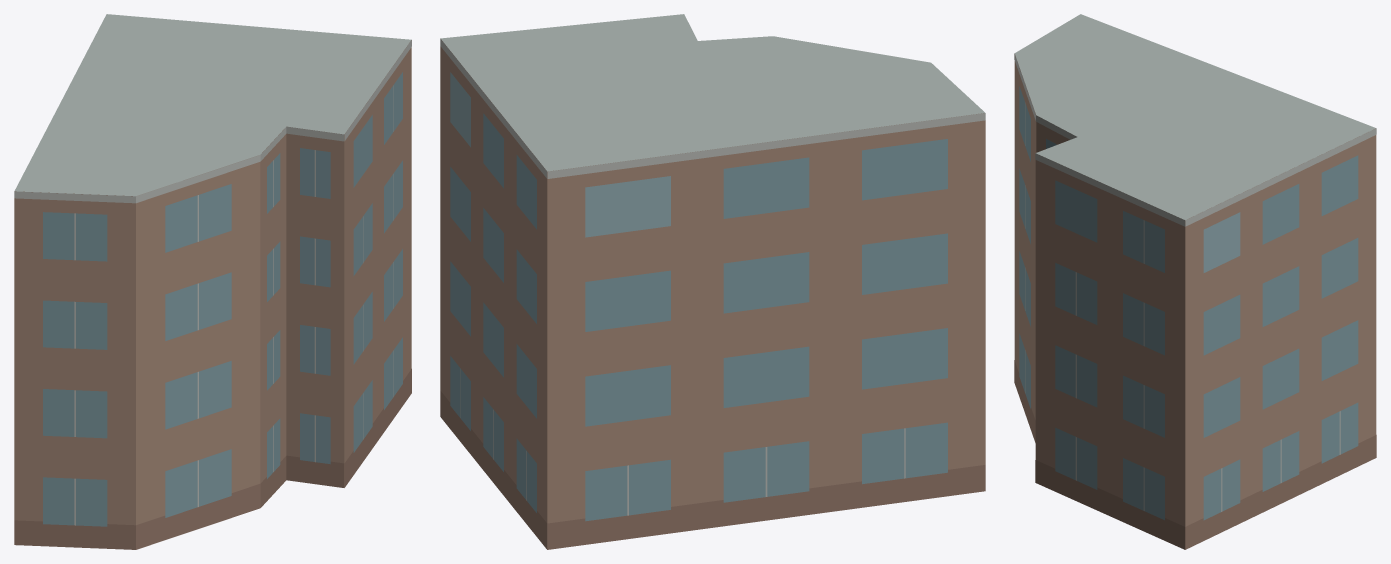
File: residential-0993ff21-07ed-4155-83bc-85afeb912ed5.glb
3 views of the same model, side by side, from view 1: azimuth 30°, elevation 25°; view 2: azimuth 150°, elevation 25°; view 3: azimuth 270°, elevation 25° (orthographic). The views are drawn at different scales.
Visible parts, largest first — view 1: residential-0993ff21-07ed-4155-83bc-85afeb912ed5.tmp; view 2: residential-0993ff21-07ed-4155-83bc-85afeb912ed5.tmp; view 3: residential-0993ff21-07ed-4155-83bc-85afeb912ed5.tmp.
Boxes of the visible parts, left/top/right/bottom form: residential-0993ff21-07ed-4155-83bc-85afeb912ed5.tmp: left=14, top=14, right=411, bottom=549; residential-0993ff21-07ed-4155-83bc-85afeb912ed5.tmp: left=440, top=14, right=985, bottom=549; residential-0993ff21-07ed-4155-83bc-85afeb912ed5.tmp: left=1014, top=14, right=1376, bottom=549.
Bounding box in the file's own units: 16.38 × 12.2 × 12.14.
